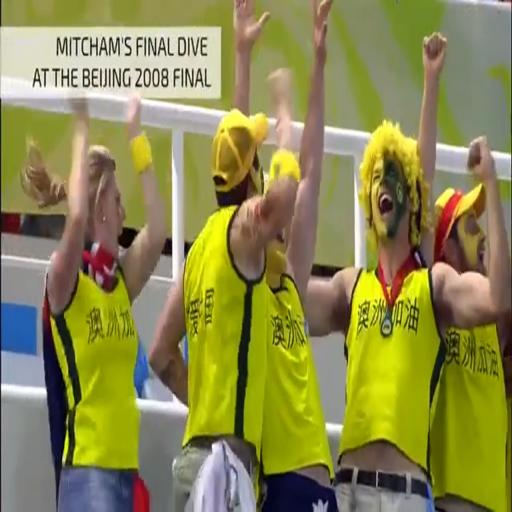nao-violencia: (225, 0, 510, 512), (153, 0, 334, 512), (16, 63, 175, 512)
